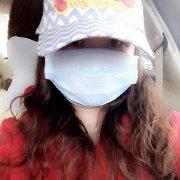OK: (53, 29, 135, 108)
